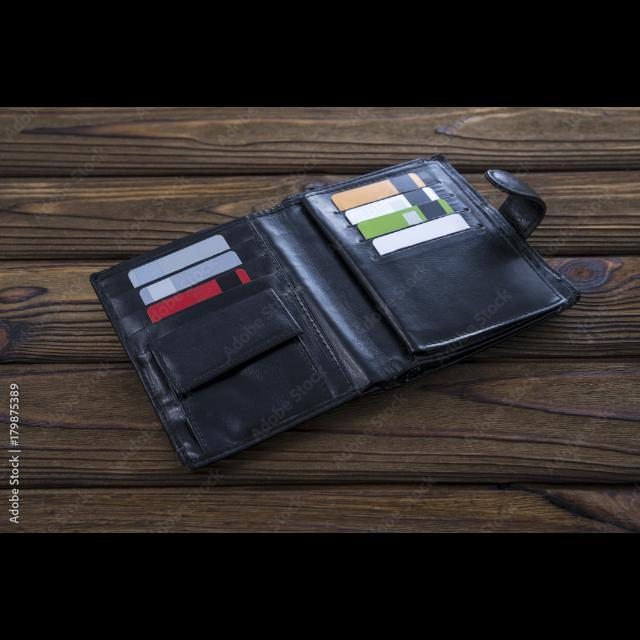wallet: (69, 134, 586, 494)
